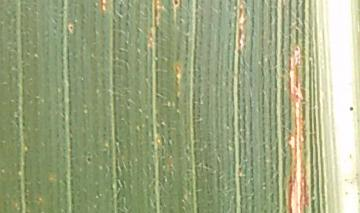tarspot: (174, 1, 179, 5), (349, 107, 354, 111), (88, 158, 91, 163), (70, 26, 73, 30)
